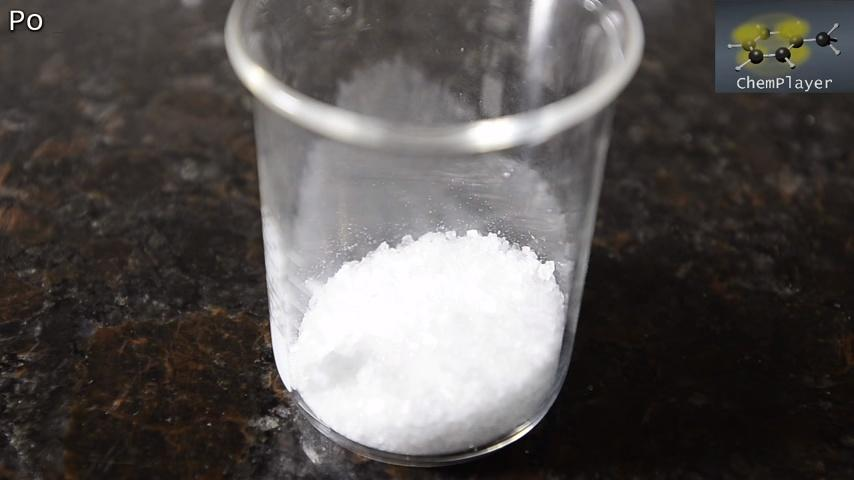Beaker: (225, 2, 657, 471)
